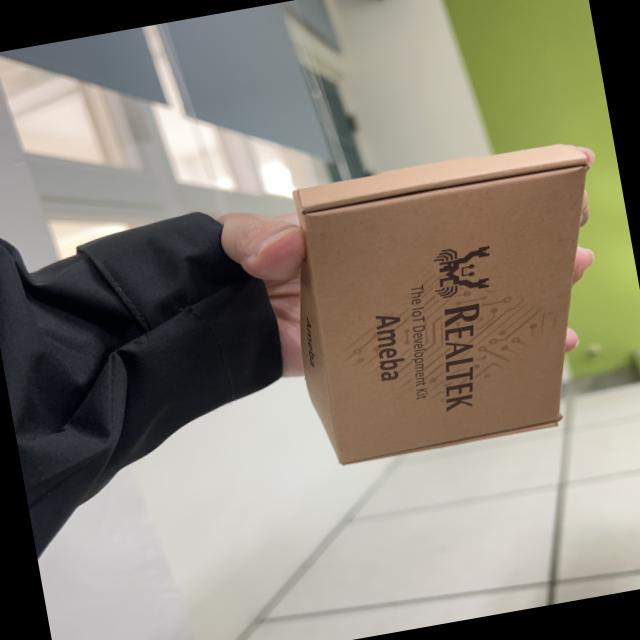box: (260, 120, 636, 484)
